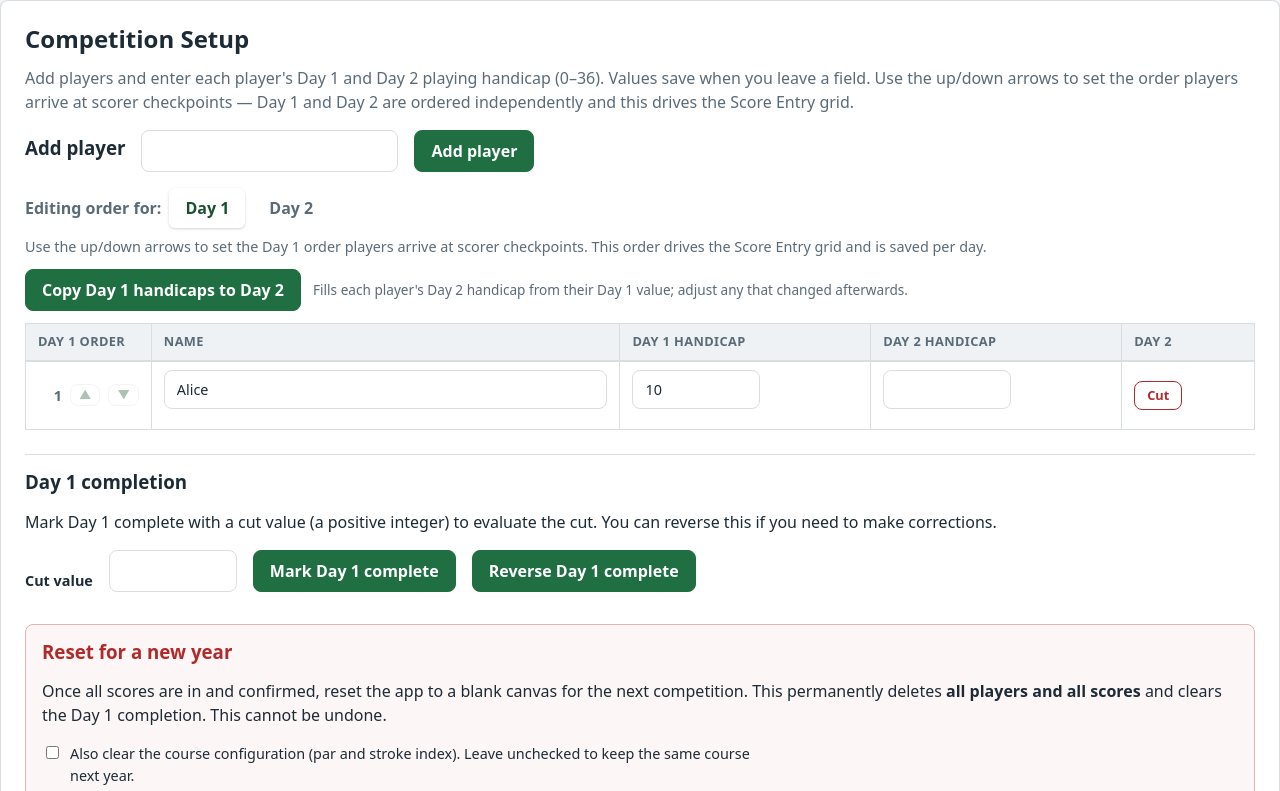
CompetitionSetupScreen › rejects an out-of-range handicap and retains the prior value (2.6)
This screenshot has width=1280, height=791.
Replace the text in the number field named "Day 1 handicap for Alice" with "40" at (696, 389), box [632,370,760,409]
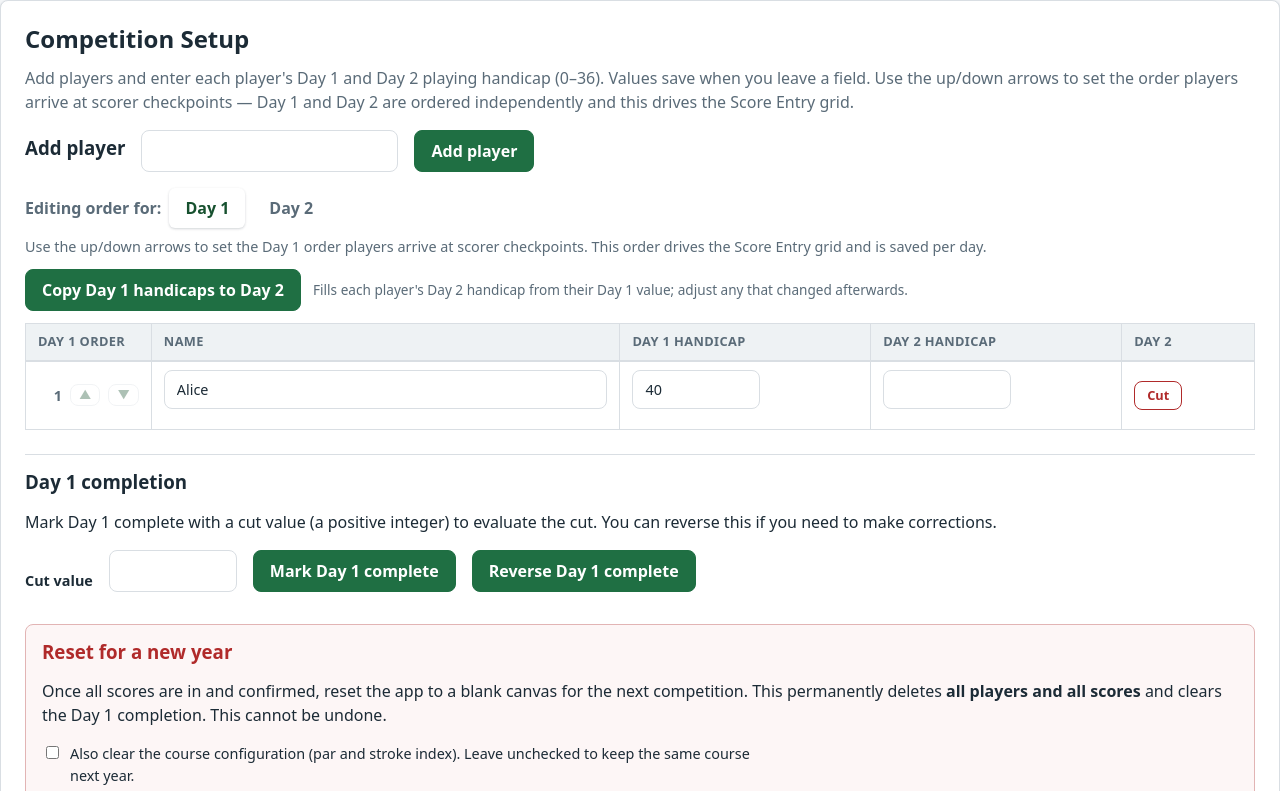
Leave the number field named "Day 1 handicap for Alice", box [632,370,760,409]
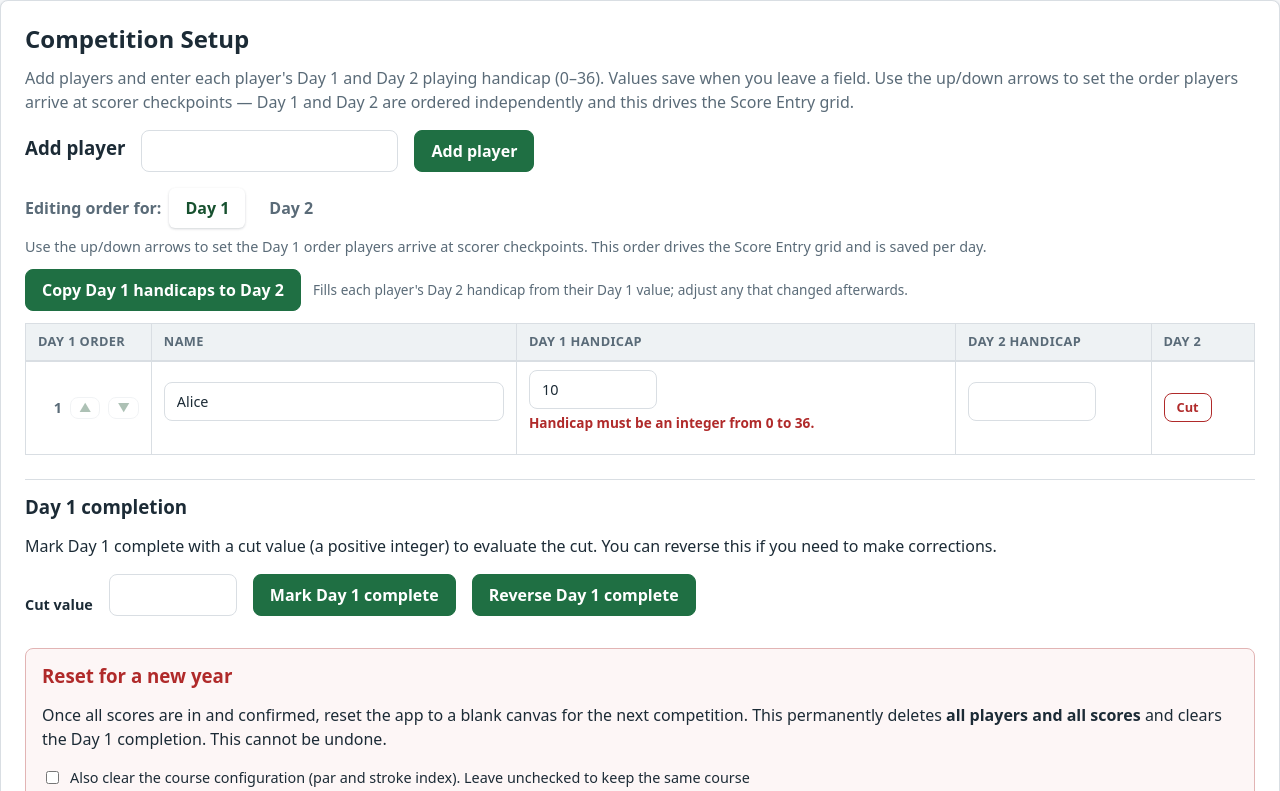
Expected: the text "Handicap must be an integer from 0 to 36." is shown, [529,413,814,432]
Expected: the number field named "Day 1 handicap for Alice" holds "10", [529,370,657,409]
